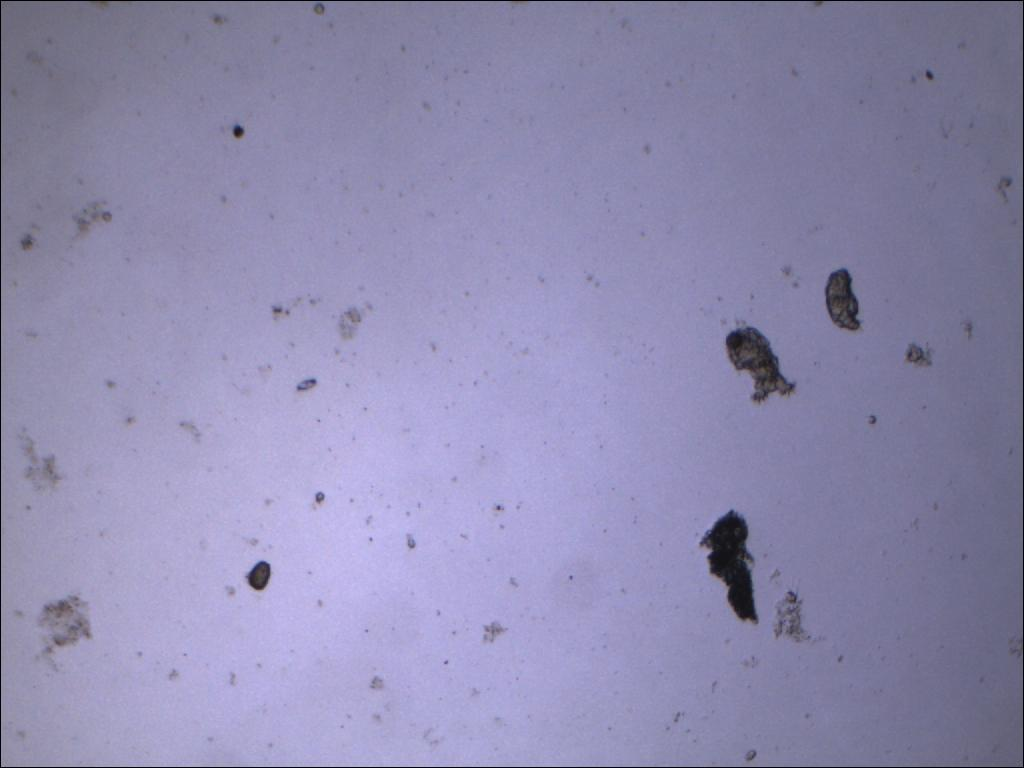amoeba: (690, 505, 768, 631)
